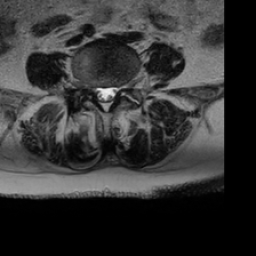CCS_normal: (101, 78, 108, 116)
LFS_severe_stenosis: (117, 78, 124, 100)
LLS_normal: (109, 78, 116, 107)
RFS_severe_stenosis: (85, 77, 95, 98)
RLS_stenosis: (93, 80, 101, 106)
